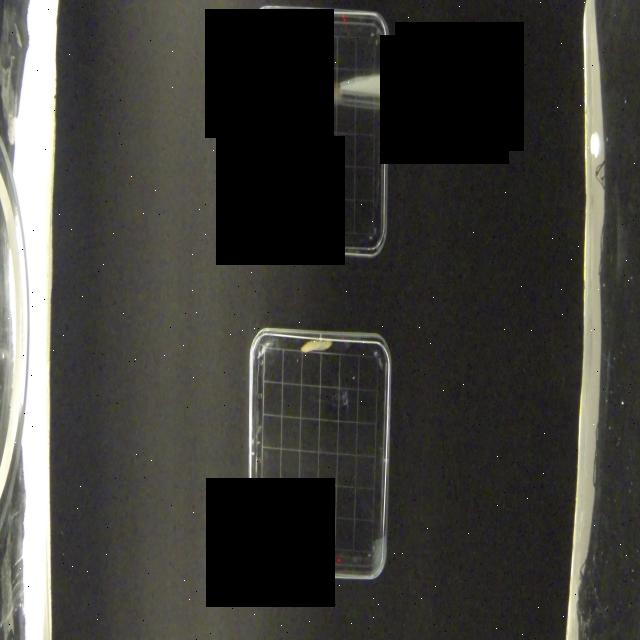larva: (254, 54, 270, 108), (300, 340, 334, 357)
